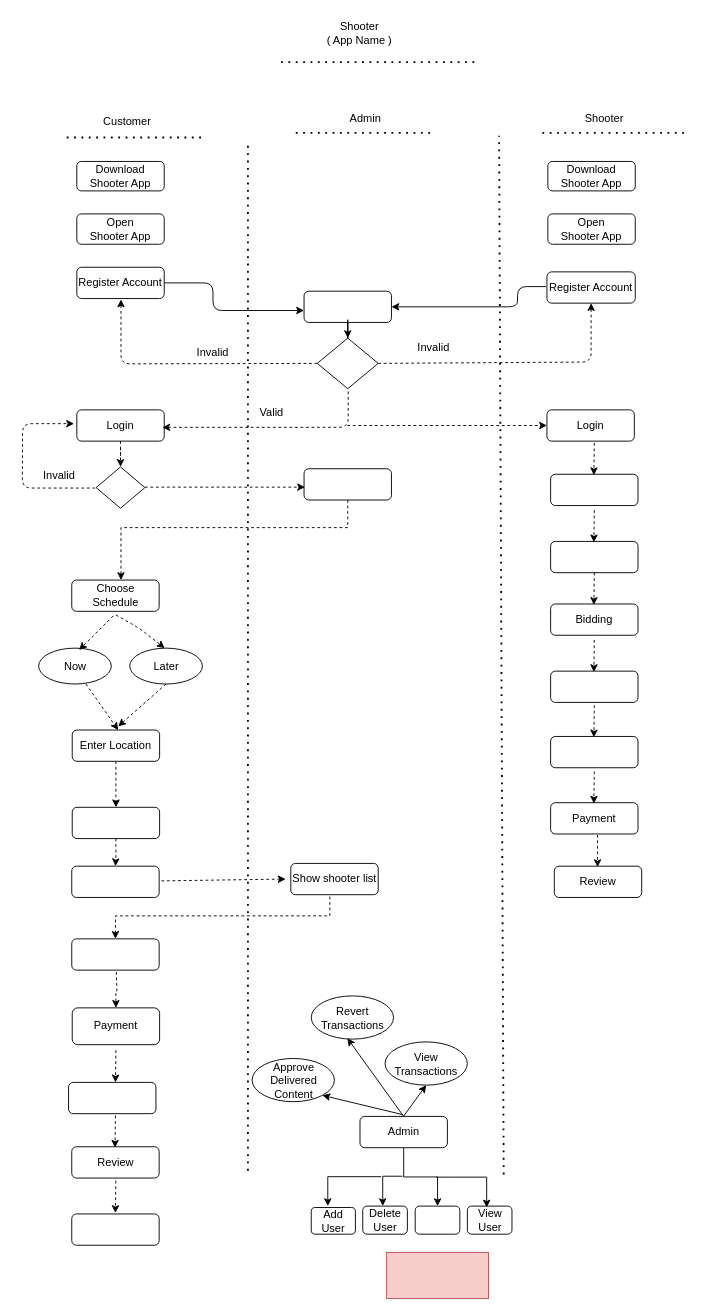
The diagram is 705 pixels wide and 1315 high, and some of its shapes have lost their labels. Here are the shapes that lost their labels. From the top down, the box of each, then its label:
(303, 290, 391, 322): Approve Registration
(303, 468, 391, 500): Show Shooter Location(Map)
(550, 473, 638, 506): Profile
(550, 540, 638, 573): Availability
(550, 670, 638, 702): Accept
(550, 736, 638, 768): On Job
(71, 806, 160, 839): More details
(71, 865, 159, 897): Search
(71, 938, 159, 970): Confirm
(68, 1081, 156, 1114): Download
(71, 1213, 159, 1245): History
(414, 1205, 460, 1234): Update User
(385, 1252, 489, 1299): user refers to => Customer, Shooter, Moderator
